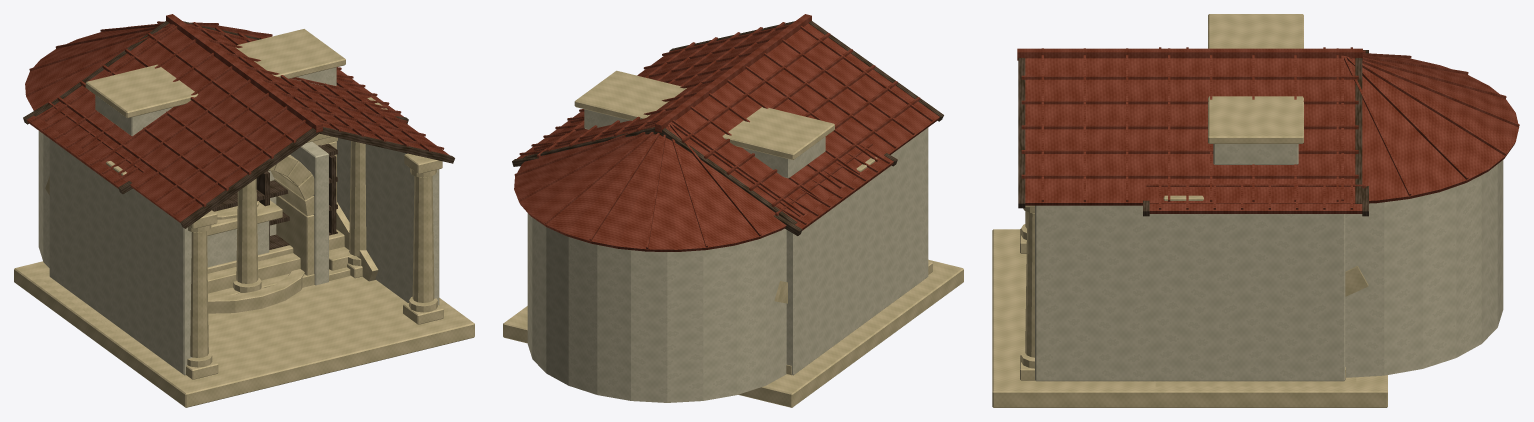
File: roman-monumental-kit.glb
3 views of the same model, side by side, from view 1: azimuth 30°, elevation 25°; view 2: azimuth 150°, elevation 25°; view 3: azimuth 270°, elevation 25° (orthographic). The views are drawn at different scales.
Parts seen in each view (by area): view 1: apsidal_hall_Oxide, apsidal_hall_Pitted, apsidal_hall_Weathered, checkpoint_arch_Pitted, administrative_portico_Pitted, vaulted_entry_Pitted, apsidal_hall_Weathered.001, administrative_portico_Oxide, tribunal_dais_Pitted, vaulted_entry_Weathered, civic_fountain_Pitted, archive_stalls_Weathered.001 (+4 smaller); view 2: apsidal_hall_Weathered, apsidal_hall_Oxide, apsidal_hall_Pitted, checkpoint_arch_Pitted, administrative_portico_Oxide, apsidal_hall_Weathered.001, checkpoint_arch_Weathered, administrative_portico_Weathered; view 3: apsidal_hall_Weathered, apsidal_hall_Oxide, apsidal_hall_Pitted, checkpoint_arch_Pitted, administrative_portico_Oxide, apsidal_hall_Weathered.001, checkpoint_arch_Weathered, administrative_portico_Pitted, monumental_stair_Pitted.
Boxes of the visible parts, box(x1,y1,x2,y2) form: apsidal_hall_Oxide: box(25, 14, 449, 222); apsidal_hall_Pitted: box(14, 153, 474, 407); apsidal_hall_Weathered: box(38, 131, 439, 375); checkpoint_arch_Pitted: box(85, 29, 345, 118); administrative_portico_Pitted: box(37, 97, 387, 339); vaulted_entry_Pitted: box(268, 155, 314, 275); apsidal_hall_Weathered.001: box(34, 20, 454, 228); administrative_portico_Oxide: box(27, 67, 403, 188); tribunal_dais_Pitted: box(207, 229, 344, 295); vaulted_entry_Weathered: box(290, 141, 328, 285); civic_fountain_Pitted: box(208, 201, 304, 313); archive_stalls_Weathered.001: box(212, 143, 337, 249); apsidal_hall_Weathered: box(527, 128, 928, 402); apsidal_hall_Oxide: box(514, 14, 939, 251); apsidal_hall_Pitted: box(503, 259, 963, 407); checkpoint_arch_Pitted: box(574, 70, 834, 159); administrative_portico_Oxide: box(517, 109, 893, 230); apsidal_hall_Weathered.001: box(523, 20, 943, 224); checkpoint_arch_Weathered: box(584, 109, 825, 178); administrative_portico_Weathered: box(512, 153, 897, 235); apsidal_hall_Weathered: box(1035, 160, 1503, 381); apsidal_hall_Oxide: box(1017, 48, 1519, 205); apsidal_hall_Pitted: box(992, 205, 1387, 407); checkpoint_arch_Pitted: box(1208, 14, 1303, 143); administrative_portico_Oxide: box(1146, 47, 1365, 213); apsidal_hall_Weathered.001: box(1018, 58, 1362, 208); checkpoint_arch_Weathered: box(1213, 144, 1298, 164); administrative_portico_Pitted: box(1155, 195, 1356, 386); monumental_stair_Pitted: box(1345, 266, 1368, 296).
Size of the model in its own units: 7.2 by 5.71 by 9.86.
Materials: 4 (4 with a texture image).
